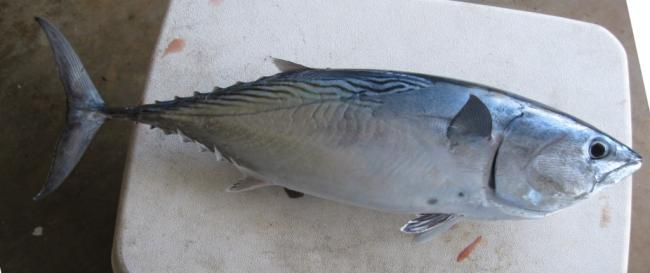fish: (32, 16, 643, 234)
